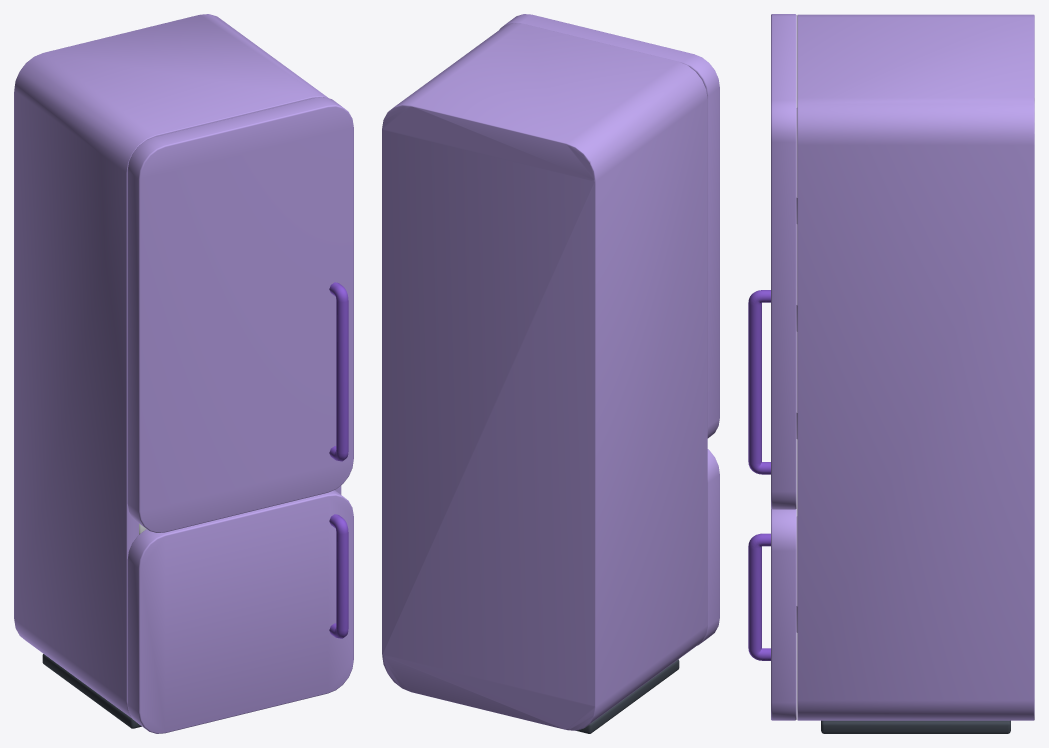
The model's file is geladeira_duas_portas_lilas.glb.
3 renders of one model, left to right at view 1: azimuth 30°, elevation 25°; view 2: azimuth 150°, elevation 25°; view 3: azimuth 270°, elevation 25°, orthographic. The views are drawn at different scales.
Visible parts, largest first — view 1: porta_geladeira, geladeira_duas_portas_lilas, porta_freezer; view 2: geladeira_duas_portas_lilas, porta_geladeira, porta_freezer; view 3: geladeira_duas_portas_lilas, porta_geladeira, porta_freezer.
Boxes of the visible parts, x1,y1,x2,y2 form: porta_geladeira: (127, 97, 353, 532); geladeira_duas_portas_lilas: (14, 14, 341, 728); porta_freezer: (127, 490, 353, 733); geladeira_duas_portas_lilas: (382, 23, 707, 733); porta_geladeira: (499, 14, 719, 438); porta_freezer: (697, 449, 719, 645); geladeira_duas_portas_lilas: (797, 14, 1034, 733); porta_geladeira: (748, 14, 797, 509); porta_freezer: (748, 509, 797, 720).
Bounding box in the file's own units: 0.66 × 1.76 × 0.724.
Materials: 2 (1 with a texture image).
